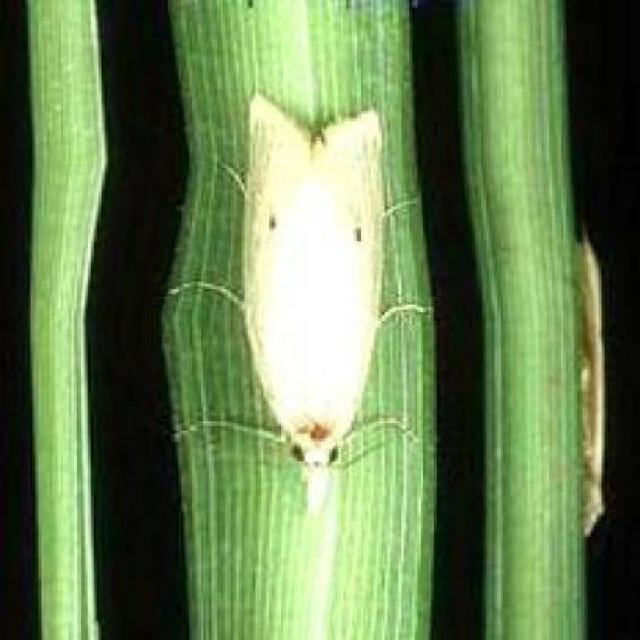stem-borer: (192, 90, 408, 542)
